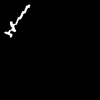double_crochet: (5, 5, 29, 36)
